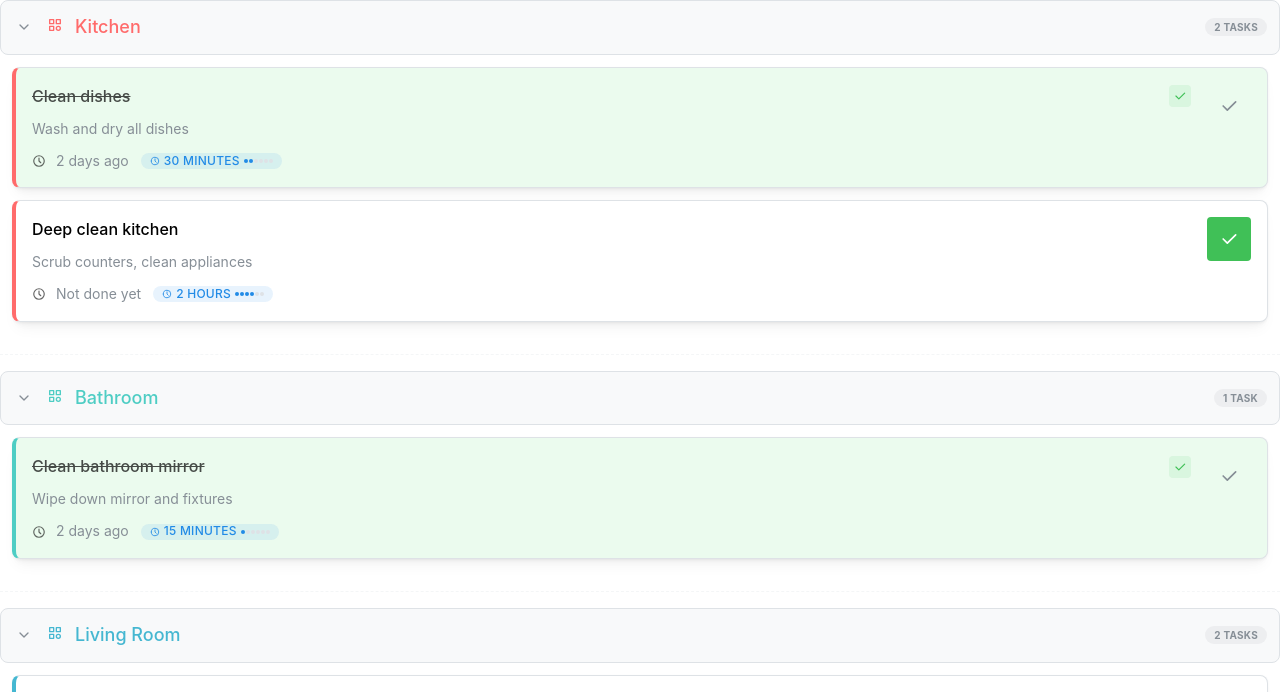
Scenario: TaskList Component › Category View › allows collapsing and expanding category groups
Collapse the Kitchen category
Click the button "Kitchen 2 tasks" at (108, 26), box [0,0,1279,55]
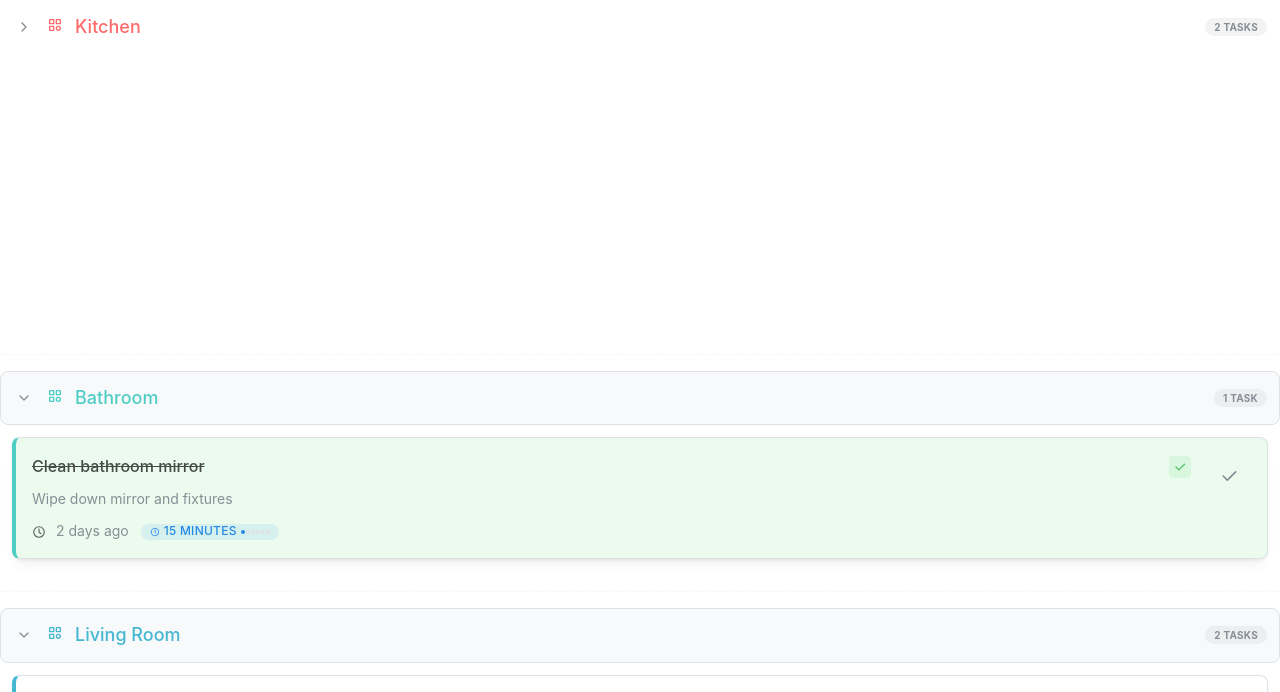
Check: the button "Kitchen 2 tasks" is collapsed
Expand it again
Click the button "Kitchen 2 tasks" at (108, 26), box [13,16,1267,38]
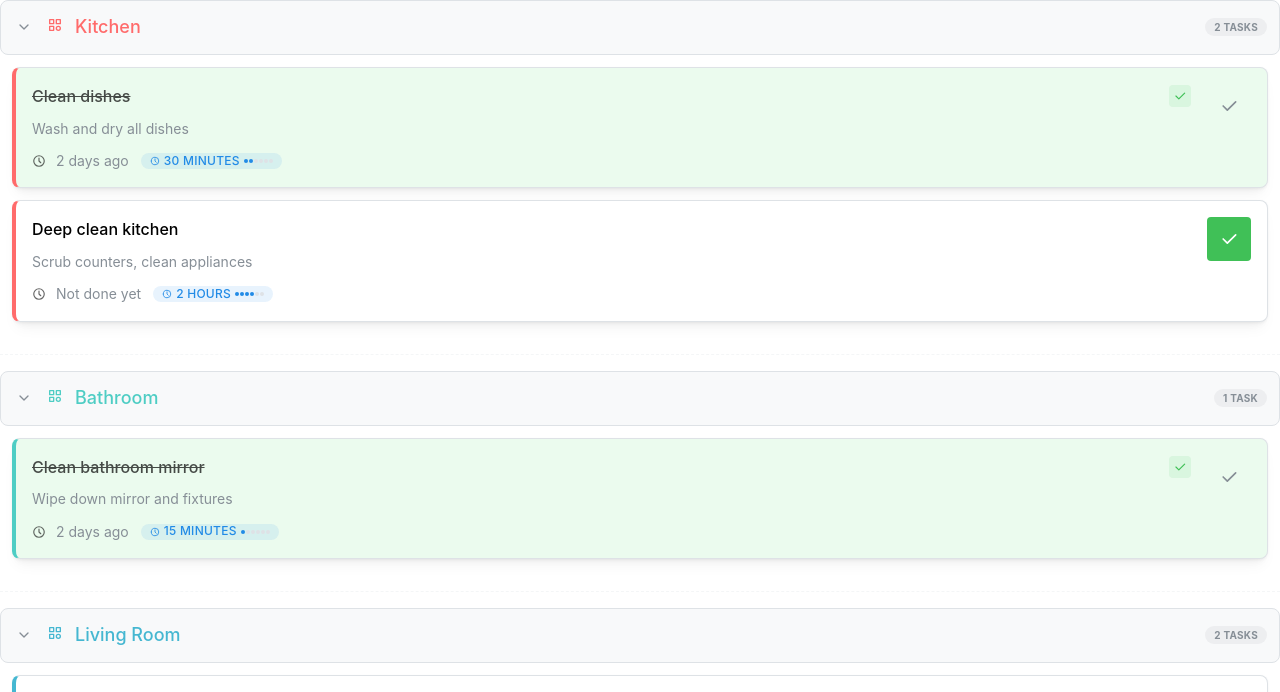
Check: the button "Kitchen 2 tasks" is expanded, box [0,0,1279,55]
